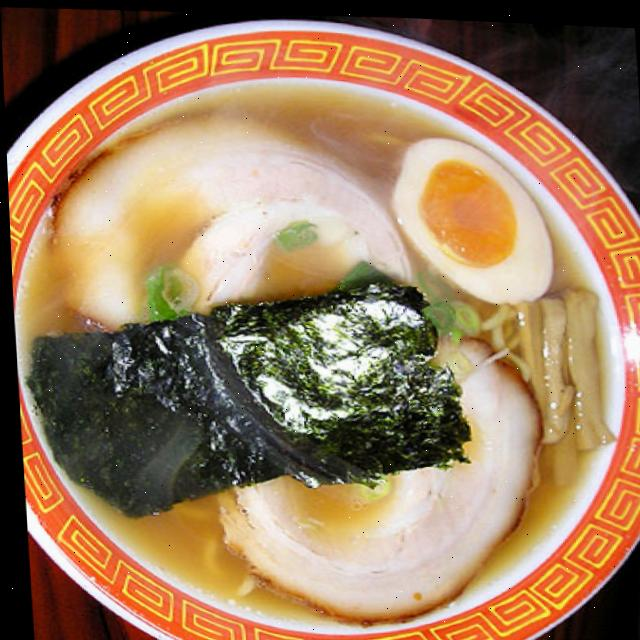面条主食: (7, 48, 631, 640)
